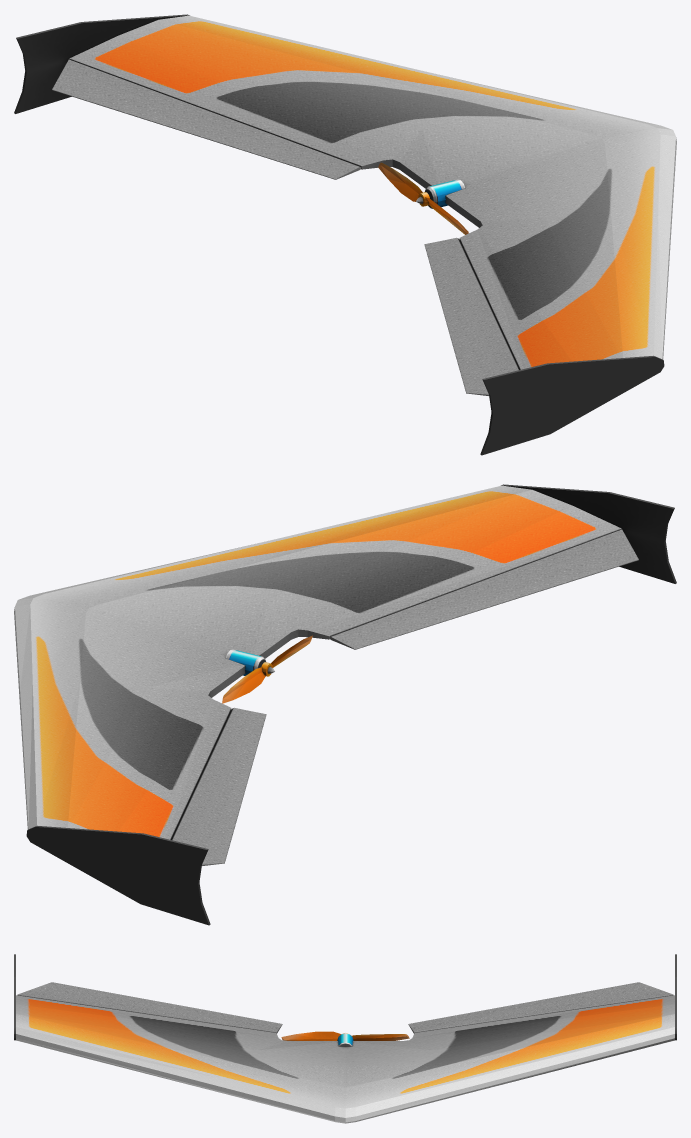
Rendered from zephyr.glb.
3 views of the same model, one above another, from view 1: azimuth 30°, elevation 25°; view 2: azimuth 150°, elevation 25°; view 3: azimuth 270°, elevation 25° (orthographic). The views are drawn at different scales.
Parts seen in each view (by area): view 1: wing_v0, flap_l_v0, flap_r_v0, propeller_v0; view 2: wing_v0, flap_r_v0, flap_l_v0, propeller_v0; view 3: wing_v0, flap_l_v0, flap_r_v0, propeller_v0.
Boxes of the visible parts, left/top/right/bottom form: wing_v0: left=14, top=14, right=676, bottom=455; flap_l_v0: left=52, top=59, right=361, bottom=179; flap_r_v0: left=424, top=237, right=519, bottom=395; propeller_v0: left=378, top=162, right=468, bottom=234; wing_v0: left=14, top=484, right=676, bottom=925; flap_r_v0: left=329, top=529, right=638, bottom=649; flap_l_v0: left=171, top=707, right=266, bottom=865; propeller_v0: left=222, top=635, right=312, bottom=703; wing_v0: left=14, top=954, right=676, bottom=1123; flap_l_v0: left=408, top=982, right=673, bottom=1033; flap_r_v0: left=17, top=982, right=282, bottom=1033; propeller_v0: left=281, top=1031, right=409, bottom=1040.
Bounding box in the file's own units: 0.8067 × 0.1354 × 1.53.
1 material, 1 textured.
